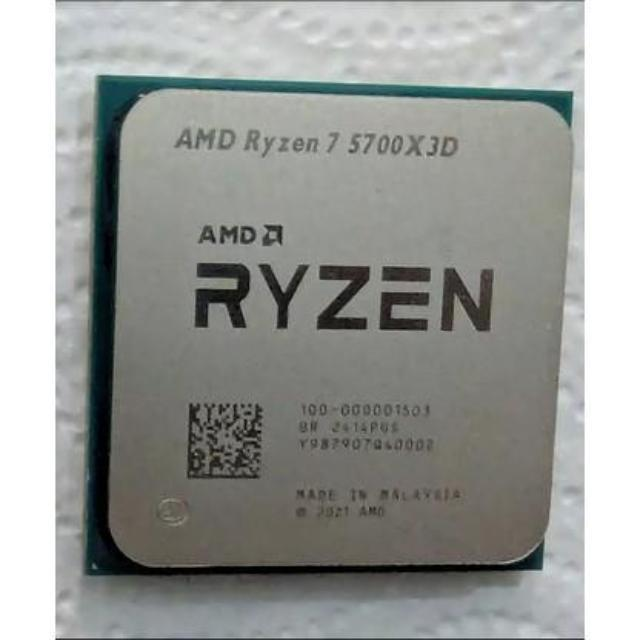CPU: (94, 69, 554, 576)
